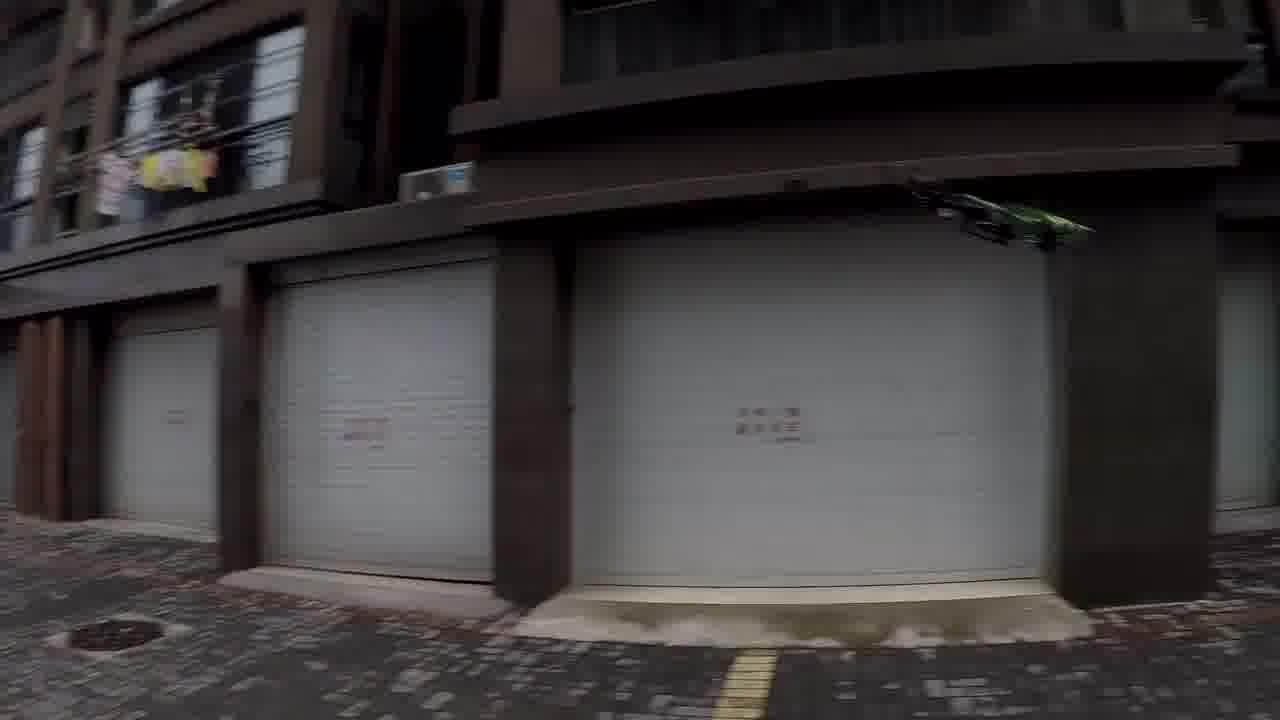drone: (903, 169, 1113, 255)
